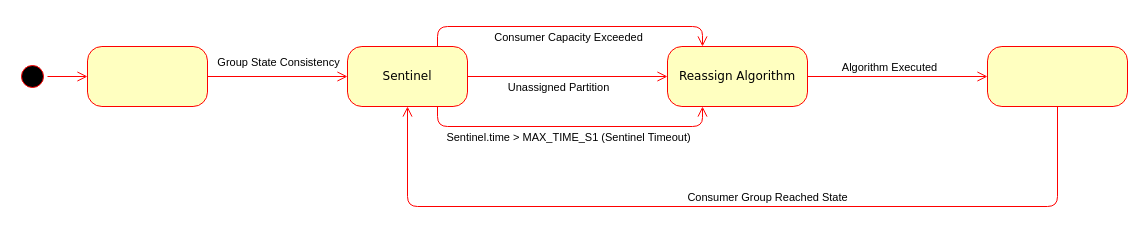
Image size: 1145x234. Some labels were removed from this diagram. The centre of each missing label's shape, as x and y in pixels:
Group Management: the point at 1057,76
Initialization: the point at 147,76
